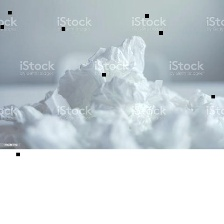tissue: (0, 29, 224, 148)
